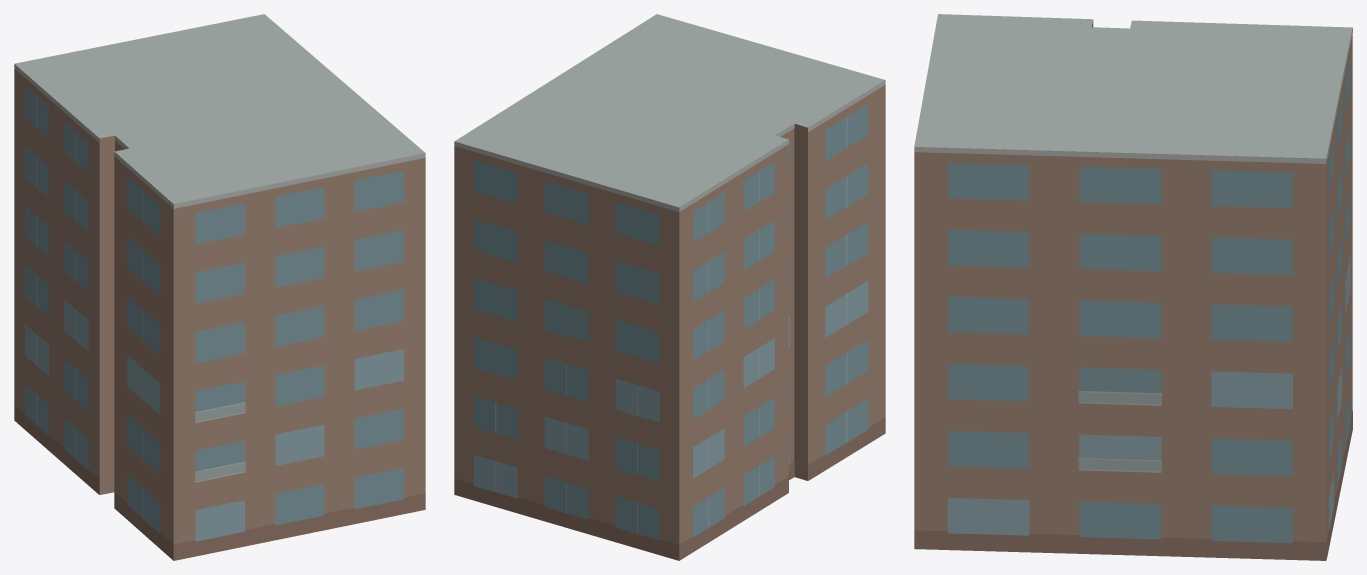
File: survey-upis-32944648.glb
3 views of the same model, side by side, from view 1: azimuth 30°, elevation 25°; view 2: azimuth 150°, elevation 25°; view 3: azimuth 270°, elevation 25° (orthographic). The views are drawn at different scales.
Visible parts, largest first — view 1: survey-upis-32944648.tmp; view 2: survey-upis-32944648.tmp; view 3: survey-upis-32944648.tmp.
Part boxes in pixels (x1=…): survey-upis-32944648.tmp: x1=14, y1=14, x2=425, y2=560; survey-upis-32944648.tmp: x1=454, y1=14, x2=885, y2=560; survey-upis-32944648.tmp: x1=914, y1=14, x2=1352, y2=560.
Bounding box in the file's own units: 14.36 × 18.6 × 18.39.
